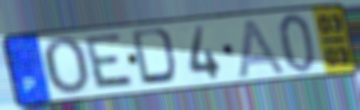0: (277, 11, 318, 75)
4: (186, 23, 224, 82)
A: (235, 16, 289, 81)
D: (129, 26, 182, 87)
E: (83, 31, 138, 91)
O: (41, 36, 93, 98)
